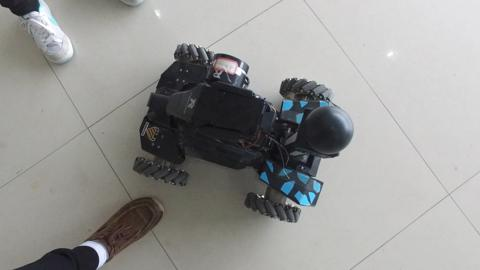chariot: (116, 28, 368, 222)
